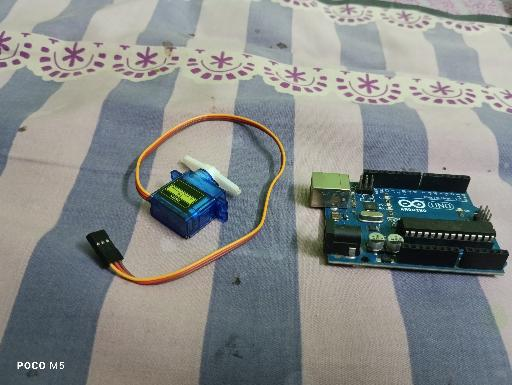Arduino: (309, 168, 509, 276)
Motor: (147, 155, 242, 241)
